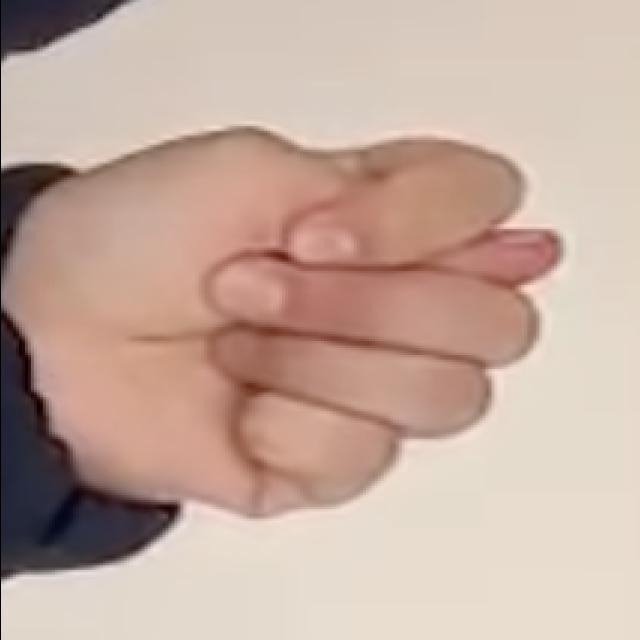T: (7, 124, 575, 528)
